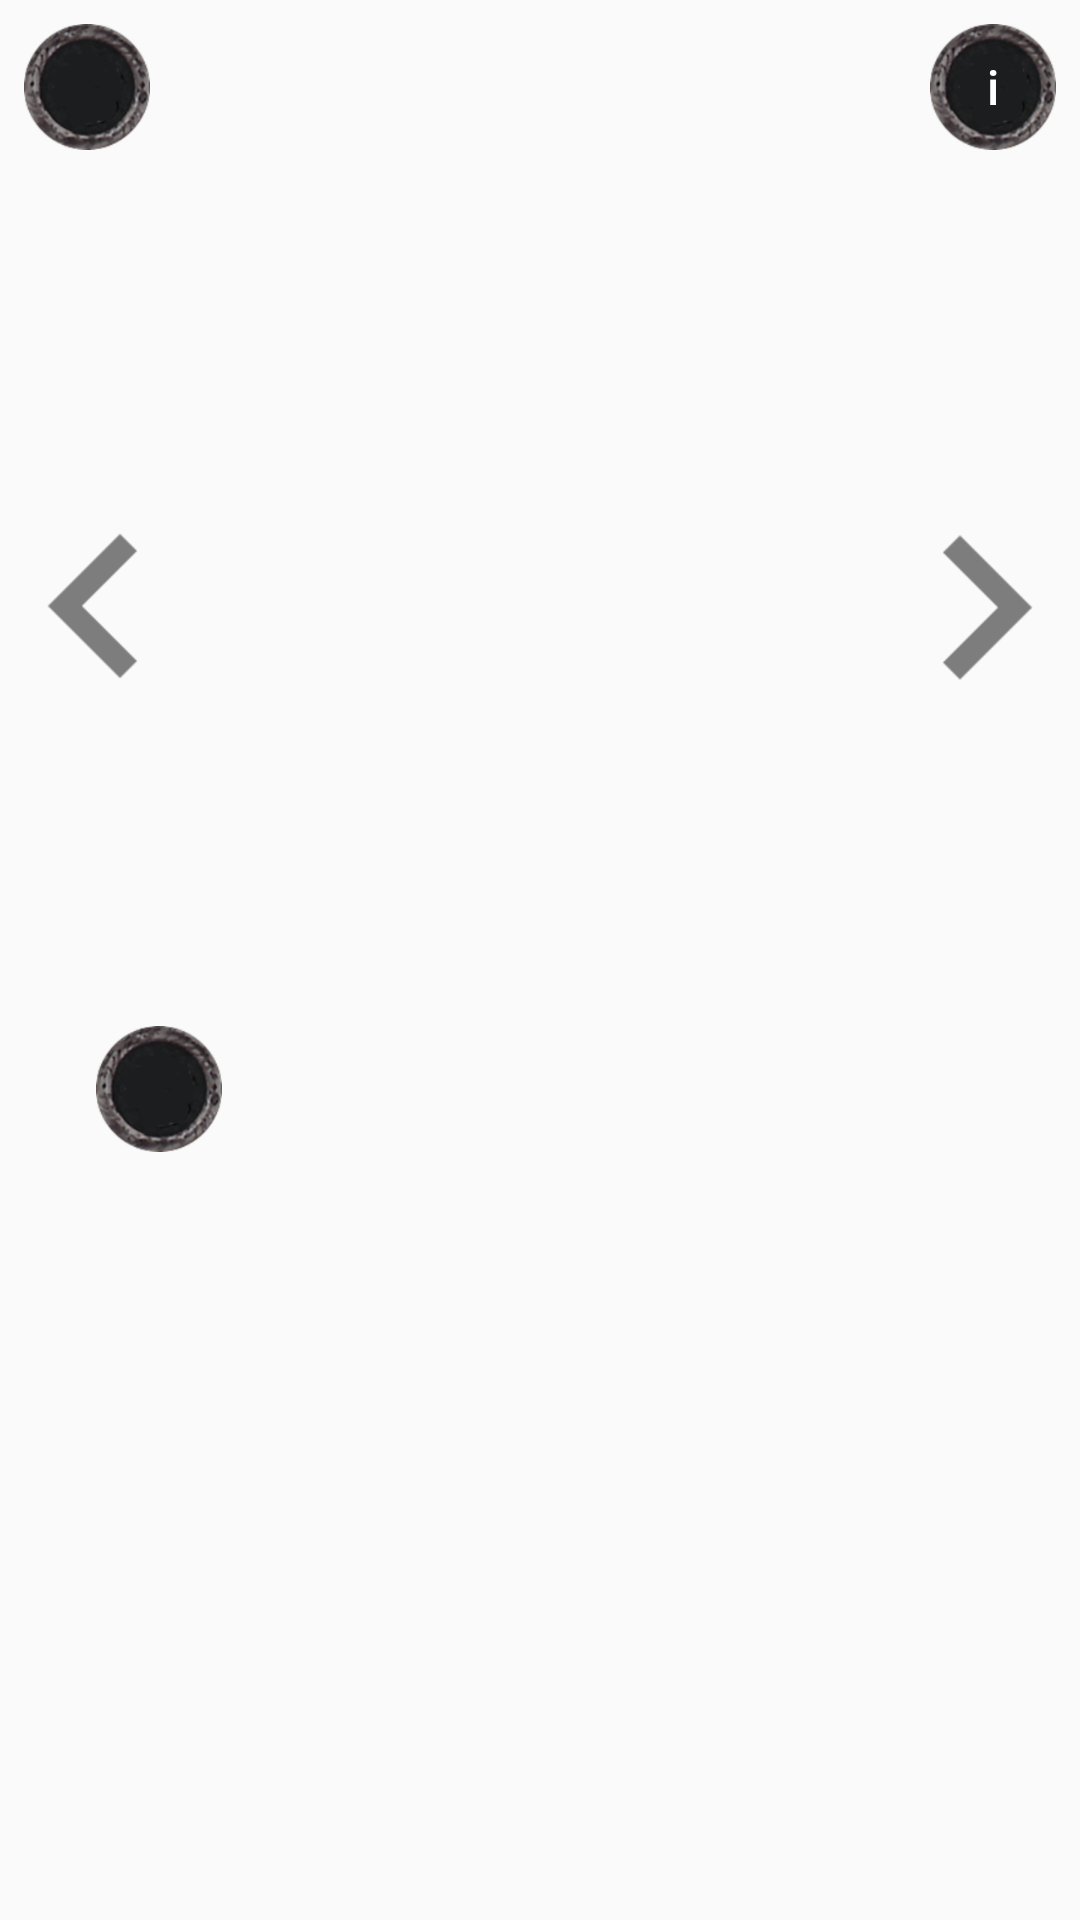

Where to tap for icons on this 1080w x 1920h app screen, as point (x, y):
Next: point (987, 607)
Previous: point (92, 606)
